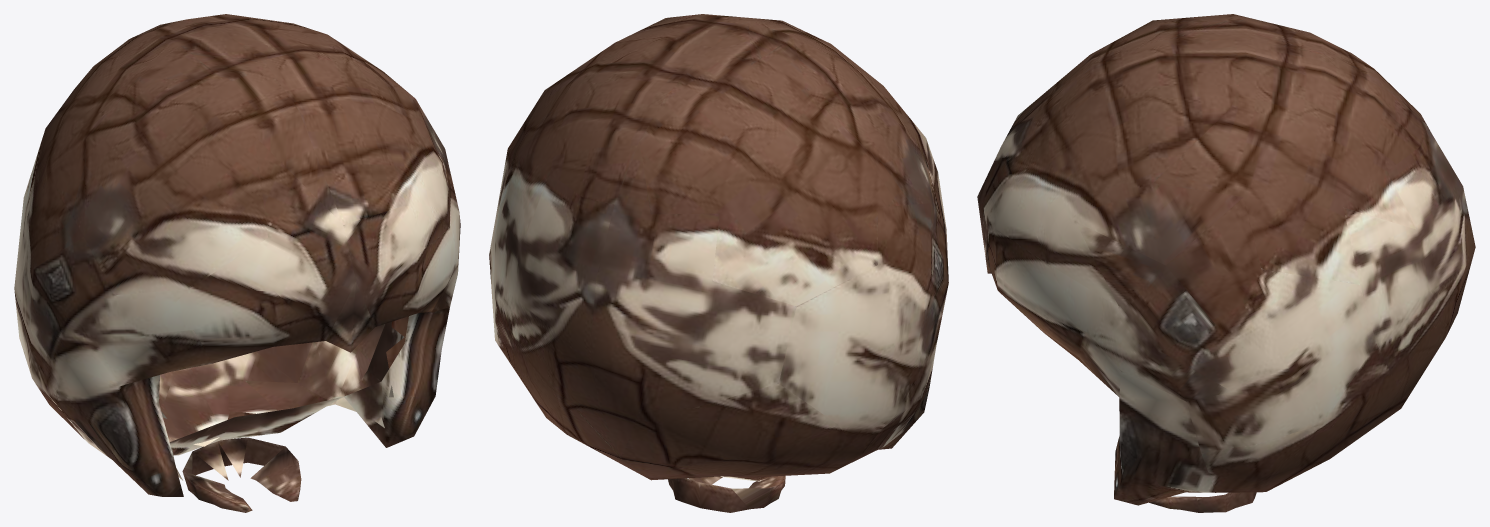
Rendered from burrowguard_helm.glb.
3 renders of one model, left to right at view 1: azimuth 30°, elevation 25°; view 2: azimuth 150°, elevation 25°; view 3: azimuth 270°, elevation 25°, orthographic. The views are drawn at different scales.
Parts seen in each view (by area): view 1: Mesh_0; view 2: Mesh_0; view 3: Mesh_0.
Part boxes in pixels (<box>): Mesh_0: <box>14,14,460,512</box>; Mesh_0: <box>489,14,948,512</box>; Mesh_0: <box>977,14,1475,512</box>.
Bounding box in the file's own units: 0.3275 × 0.3334 × 0.3343.
1 material, 1 textured.
